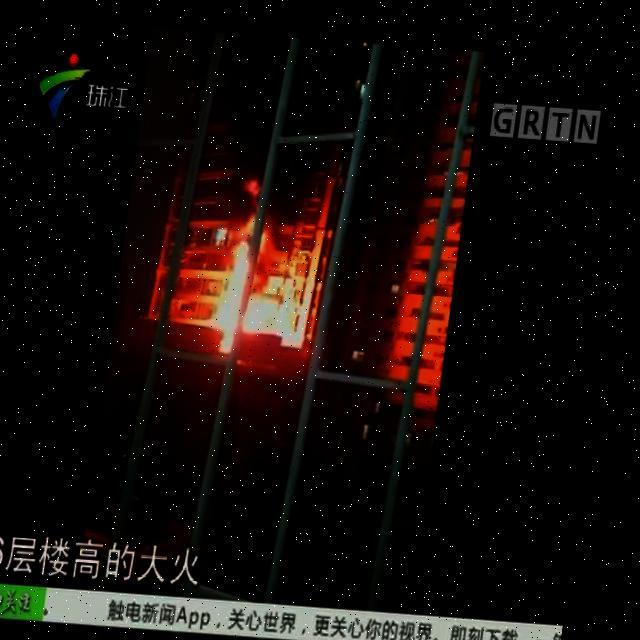Fire: (222, 200, 280, 346)
